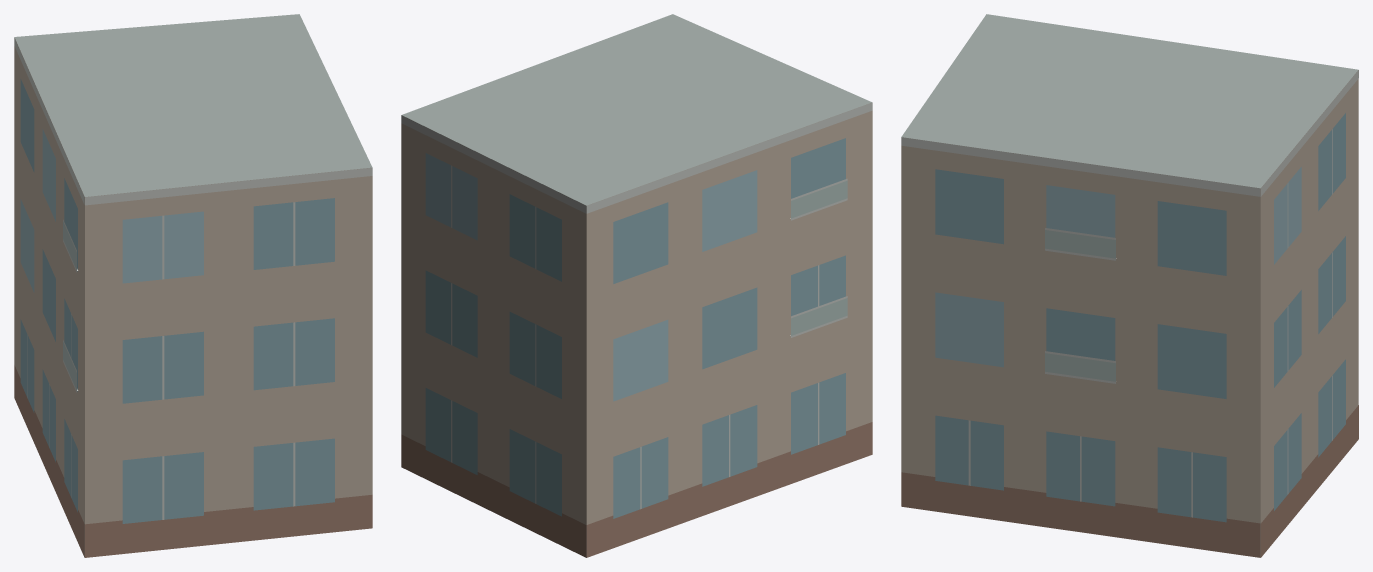
The model's file is survey-upis-32473700.glb.
3 renders of one model, left to right at view 1: azimuth 30°, elevation 25°; view 2: azimuth 150°, elevation 25°; view 3: azimuth 270°, elevation 25°, orthographic. The views are drawn at different scales.
Parts seen in each view (by area): view 1: survey-upis-32473700.tmp; view 2: survey-upis-32473700.tmp; view 3: survey-upis-32473700.tmp.
Part boxes in pixels (x1,y1,x2,y2): survey-upis-32473700.tmp: [14, 14, 372, 557]; survey-upis-32473700.tmp: [401, 14, 872, 557]; survey-upis-32473700.tmp: [901, 14, 1358, 557].
Bounding box in the file's own units: 10.63 × 10.5 × 11.79.
